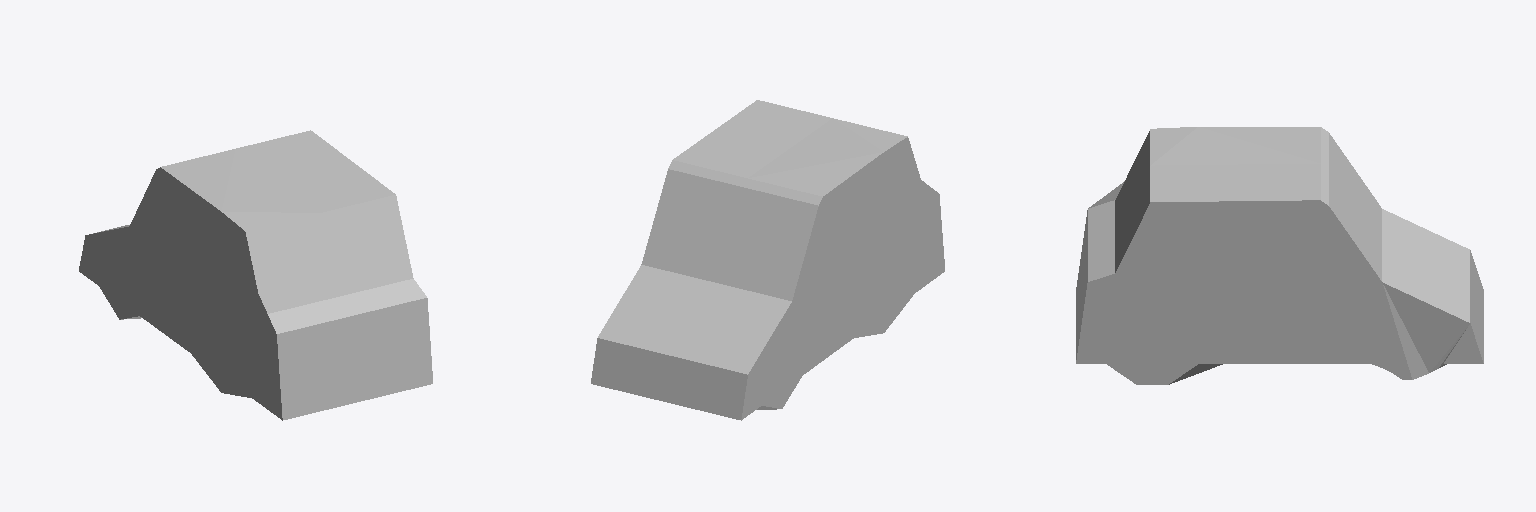
File: Car.obj
The picture shows the model from 3 angles: view 1: azimuth 30°, elevation 25°; view 2: azimuth 150°, elevation 25°; view 3: azimuth 270°, elevation 25°; orthographic projection.
Parts seen in each view (by area): view 1: Car; view 2: Car; view 3: Car.
Boxes of the visible parts, box(x1,y1,x2,y2) form: Car: box(79, 130, 432, 420); Car: box(591, 100, 944, 420); Car: box(1076, 127, 1483, 384).
Size of the model in its own units: 1.77 by 2.07 by 4.15.